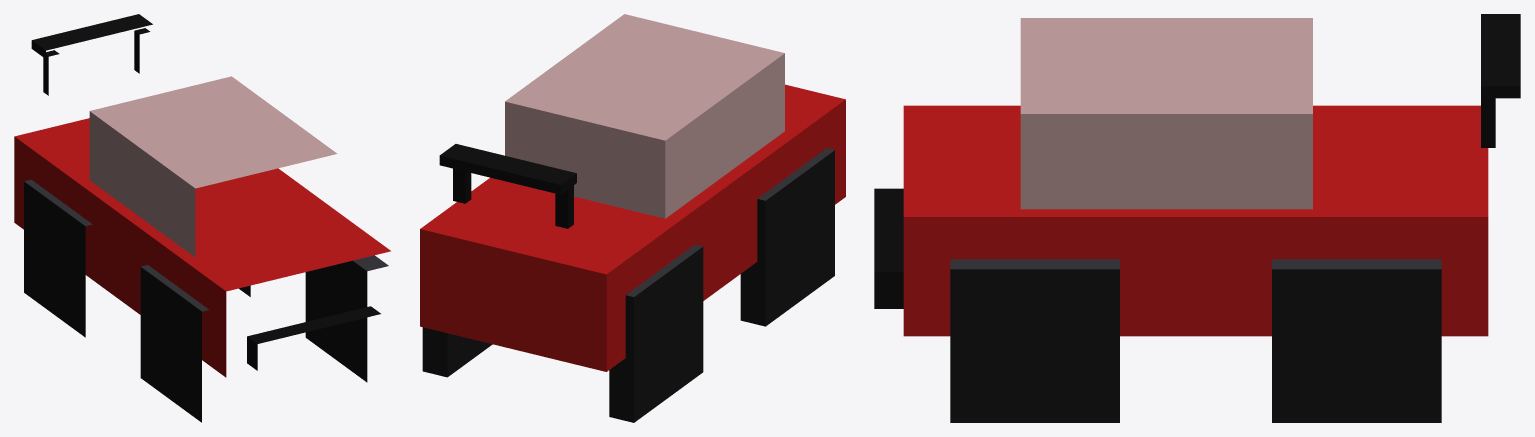
File: car_red.glb
3 renders of one model, left to right at view 1: azimuth 30°, elevation 25°; view 2: azimuth 150°, elevation 25°; view 3: azimuth 270°, elevation 25°, orthographic. The views are drawn at different scales.
Visible parts, largest first — view 1: mesh0; view 2: mesh0; view 3: mesh0.
Part boxes in pixels (x1,y1,x2,y2): mesh0: [14, 14, 390, 422]; mesh0: [420, 14, 845, 422]; mesh0: [874, 14, 1520, 422].
Size of the model in its own units: 2.04 by 2.32 by 4.42.
